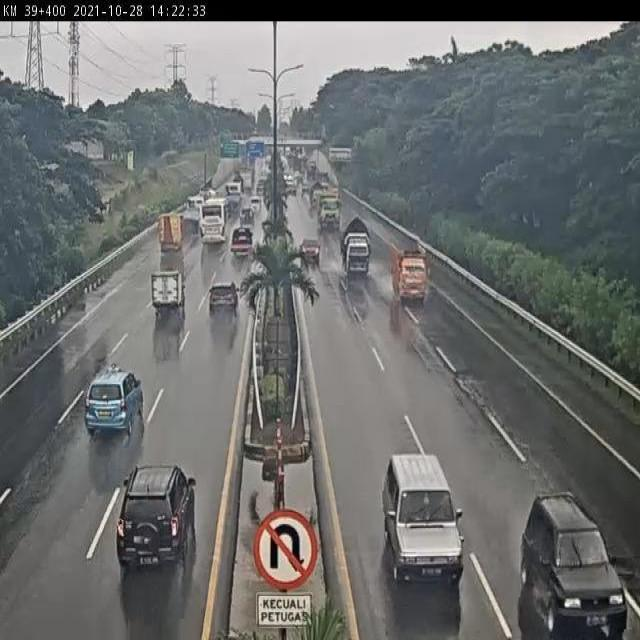big bus: (200, 192, 242, 251)
big truck: (315, 190, 342, 230), (213, 184, 236, 223), (182, 193, 204, 232)
car: (511, 481, 640, 640), (375, 444, 470, 593), (118, 458, 198, 578), (79, 364, 144, 440), (208, 276, 239, 320), (298, 233, 322, 270), (228, 228, 250, 257), (243, 205, 258, 227), (251, 186, 264, 206)
small truck: (388, 242, 438, 310), (339, 213, 375, 280), (148, 269, 188, 319), (157, 212, 186, 255), (230, 171, 251, 204)
